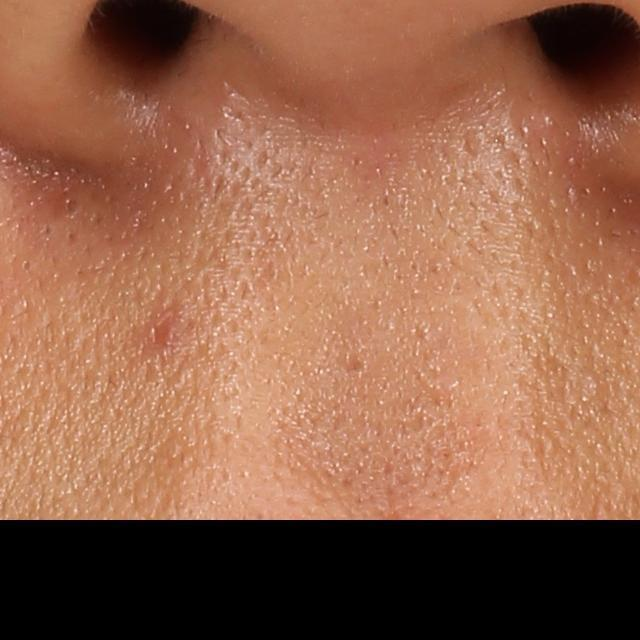atrophic_scar: (342, 359, 364, 376)
comedo: (59, 195, 84, 219)
